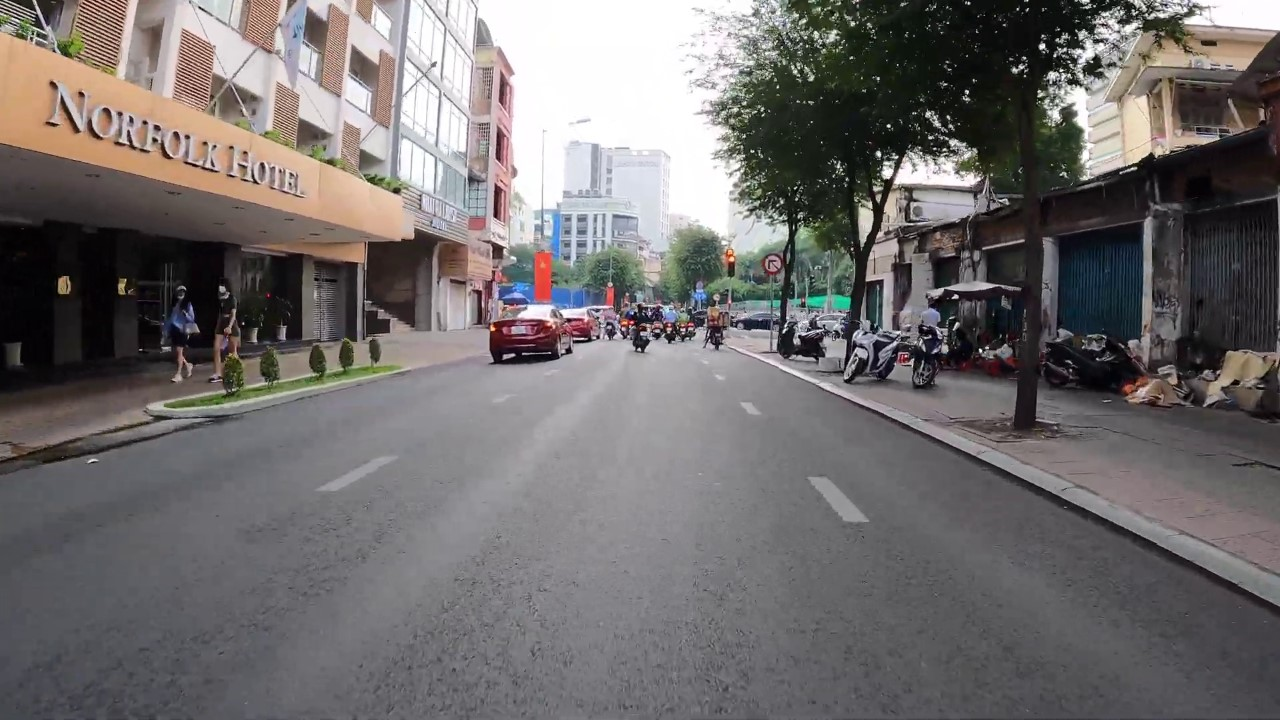cam_re_phai: (762, 252, 783, 275)
